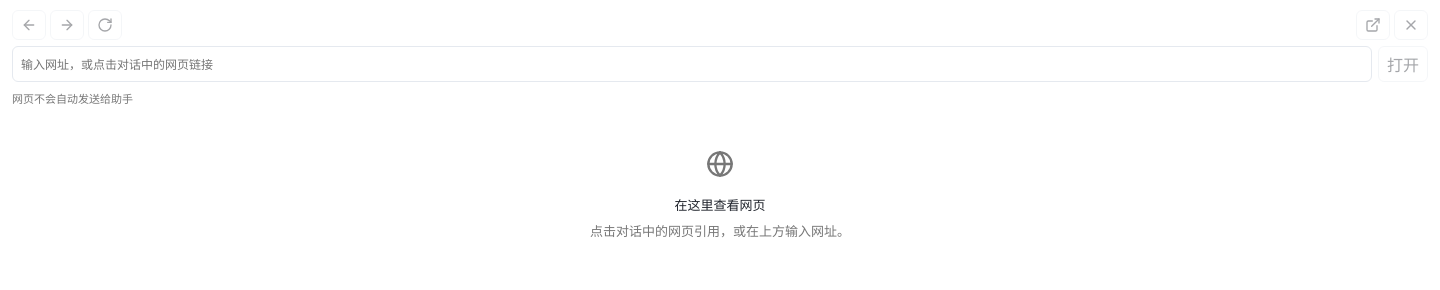
Test case: shows native rejection without losing the address
Type "http://localhost" into the field named "网页地址".
click(692, 64); type("http://localhost")  # box x1=12 y1=46 x2=1372 y2=82
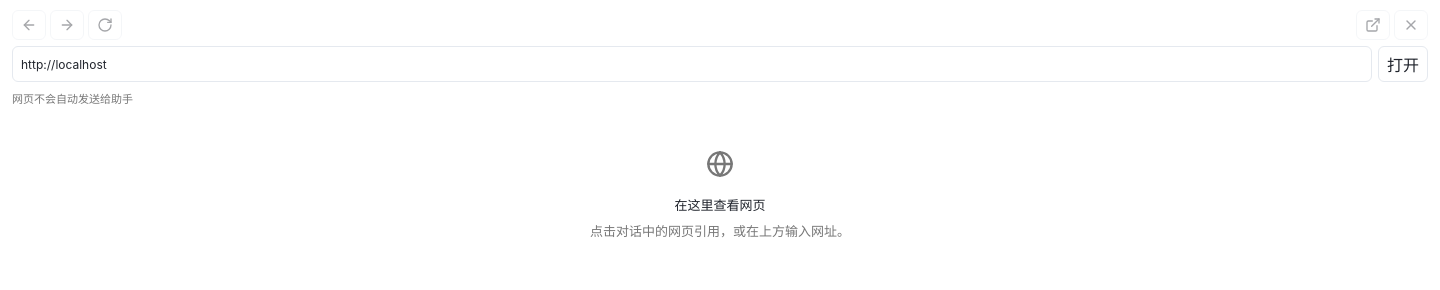
Click the button "打开".
click(1403, 64)  # box x1=1378 y1=46 x2=1428 y2=82
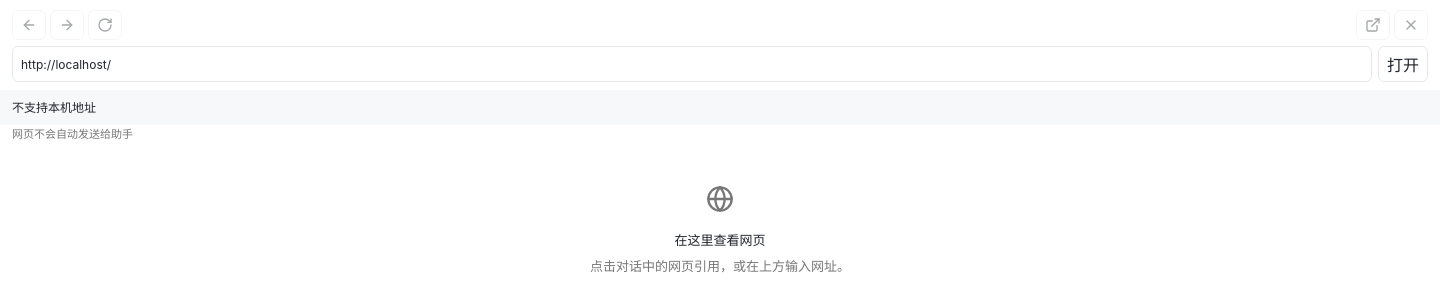
Expected: the message "不支持本机地址" is shown, x1=0 y1=90 x2=1439 y2=125
